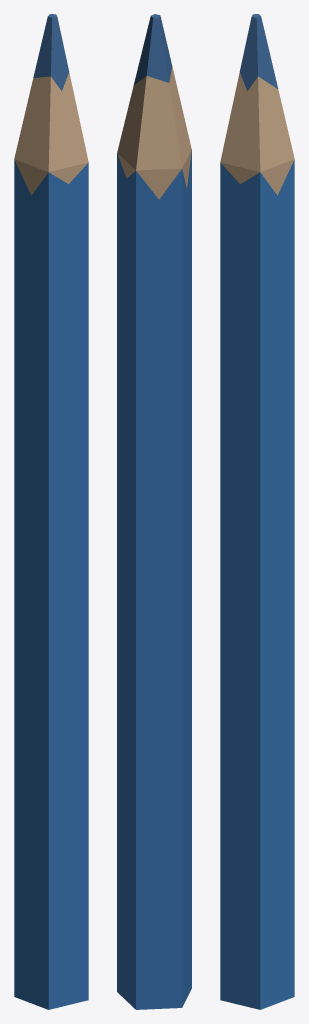
File: Int_OfficePencil01_2.fbx
3 views of the same model, side by side, from view 1: azimuth 30°, elevation 25°; view 2: azimuth 150°, elevation 25°; view 3: azimuth 330°, elevation 25° (orthographic).
Parts seen in each view (by area): view 1: Int_OfficePencil01_2; view 2: Int_OfficePencil01_2; view 3: Int_OfficePencil01_2.
Part boxes in pixels (x1,y1,x2,y2): Int_OfficePencil01_2: [14, 14, 88, 1009]; Int_OfficePencil01_2: [117, 14, 191, 1009]; Int_OfficePencil01_2: [220, 14, 294, 1009].
Size of what is drawn, in the model's own units: 1.74 by 1.65 by 25.01.
